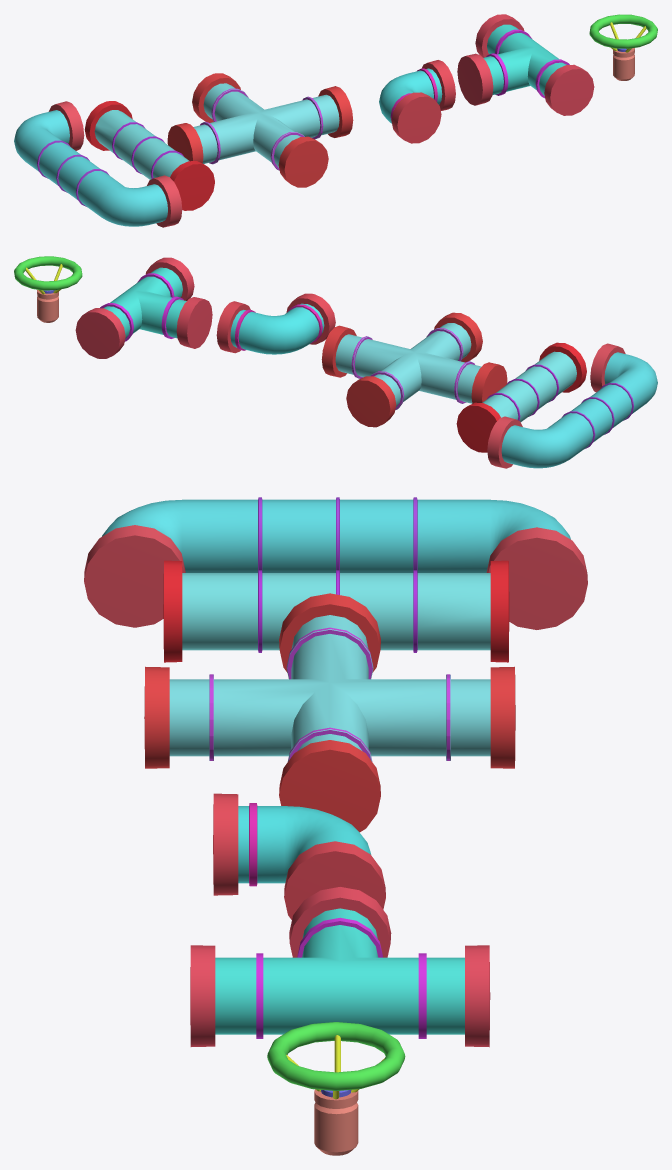
File: PipeUVID.fbx
3 views of the same model, one above another, from view 1: azimuth 30°, elevation 25°; view 2: azimuth 150°, elevation 25°; view 3: azimuth 270°, elevation 25° (orthographic). The views are drawn at different scales.
Visible parts, largest first — view 1: Cross Joint, LongPipe, TPipe, StraightPipe, SmCornerPipe, Handle, Base; view 2: Cross Joint, LongPipe, TPipe, StraightPipe, SmCornerPipe, Handle, Base; view 3: Cross Joint, LongPipe, TPipe, StraightPipe, SmCornerPipe, Handle, Base.
Boxes of the visible parts, box(x1,y1,x2,y2) form: Cross Joint: box(167, 73, 353, 187); LongPipe: box(14, 101, 182, 227); TPipe: box(457, 14, 594, 115); StraightPipe: box(84, 101, 214, 210); SmCornerPipe: box(379, 60, 455, 143); Handle: box(589, 14, 657, 48); Base: box(613, 48, 634, 80); Cross Joint: box(321, 312, 507, 427); LongPipe: box(487, 343, 657, 468); TPipe: box(75, 257, 212, 358); StraightPipe: box(456, 342, 586, 452); SmCornerPipe: box(216, 293, 335, 354); Handle: box(14, 256, 82, 290); Base: box(37, 289, 58, 322); Cross Joint: box(144, 593, 515, 832); LongPipe: box(84, 497, 587, 629); TPipe: box(190, 887, 490, 1047); StraightPipe: box(163, 560, 509, 662); SmCornerPipe: box(213, 793, 385, 919); Handle: box(267, 1022, 405, 1090); Base: box(314, 1089, 358, 1155).
Bounding box in the file's own units: 545 × 52.97 × 199.
